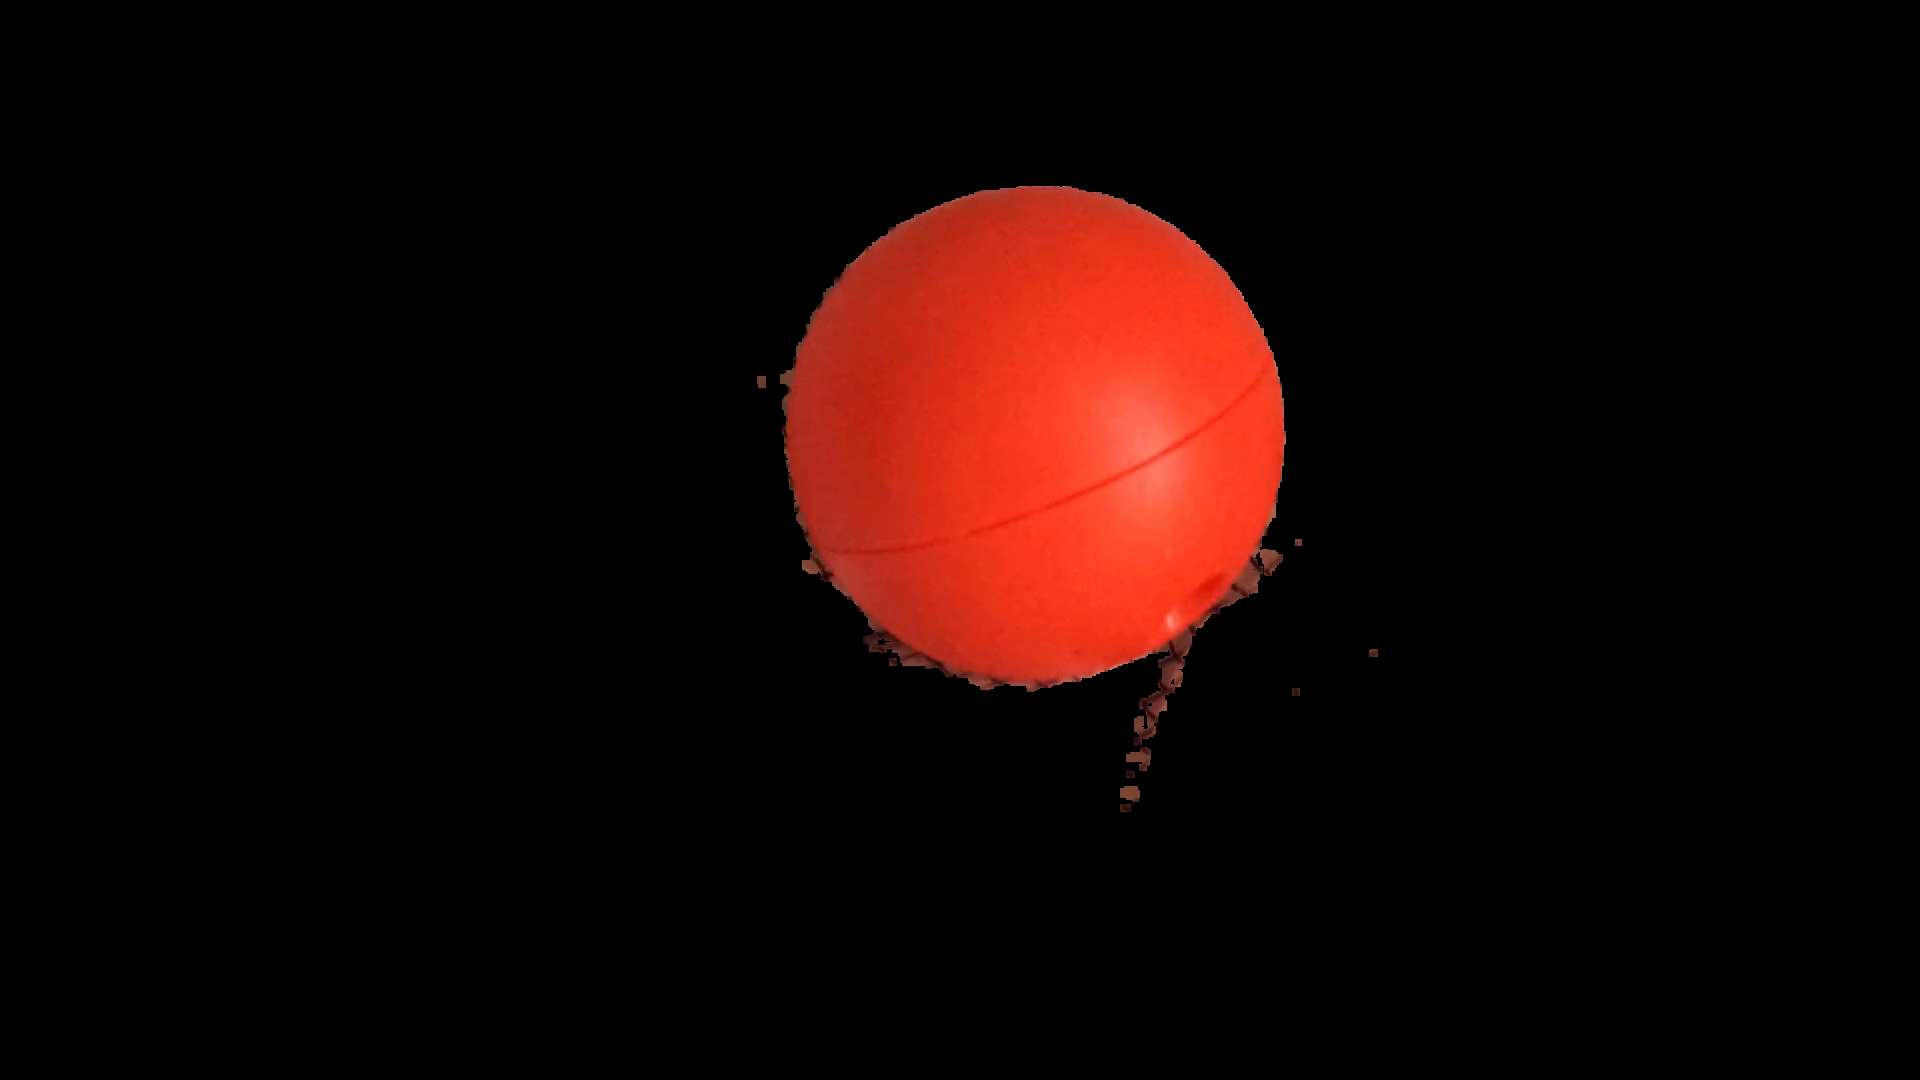Ball: (800, 181, 1284, 671)
